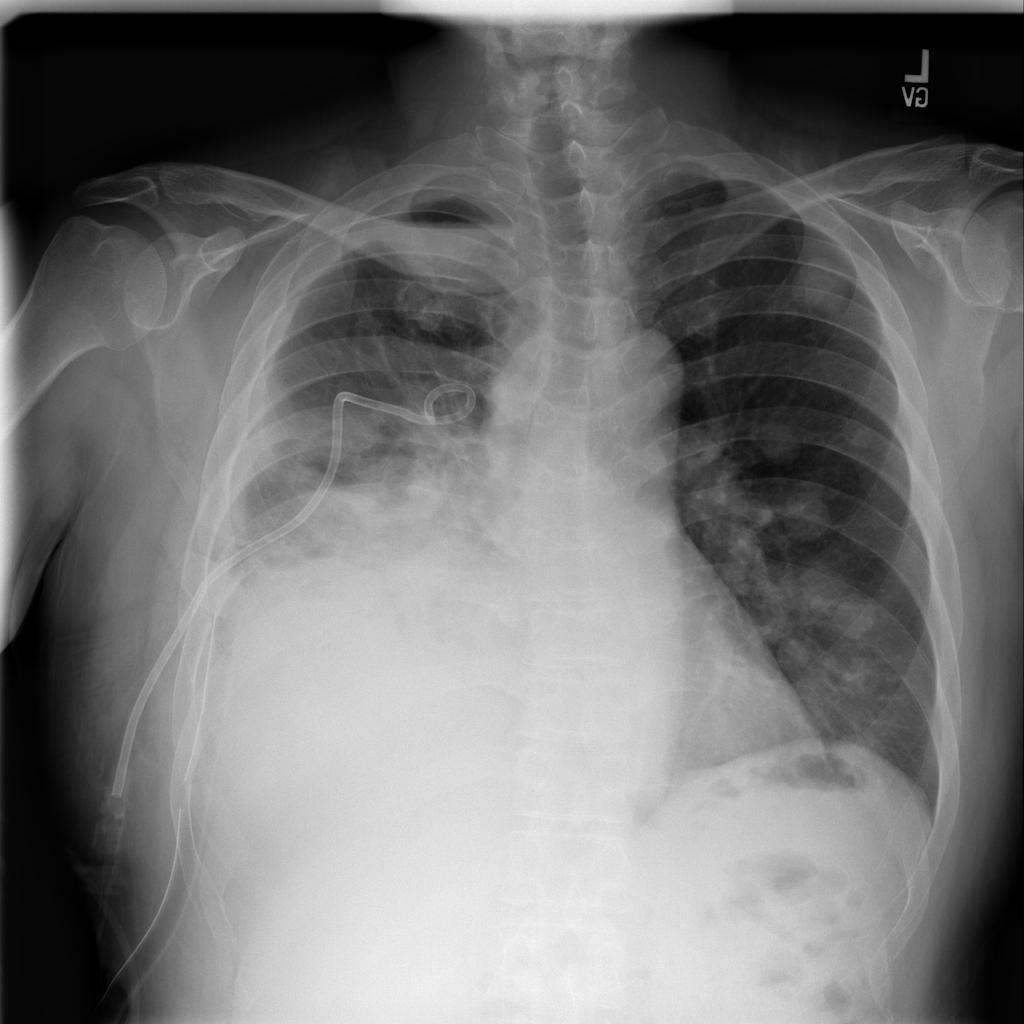nodule: (775, 473, 844, 549), (747, 405, 816, 478), (816, 589, 889, 656), (838, 412, 890, 463), (767, 627, 819, 677)
